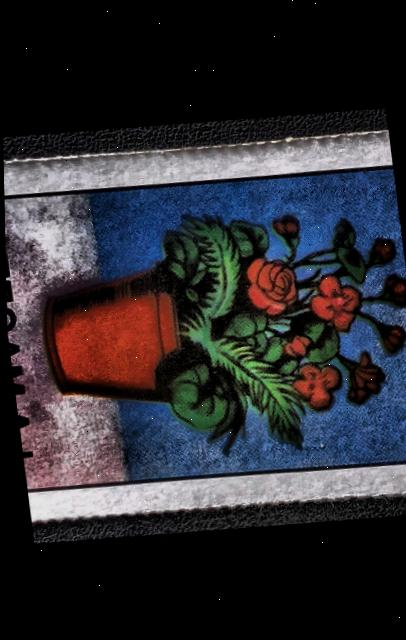La Maceta: (2, 126, 406, 518)
